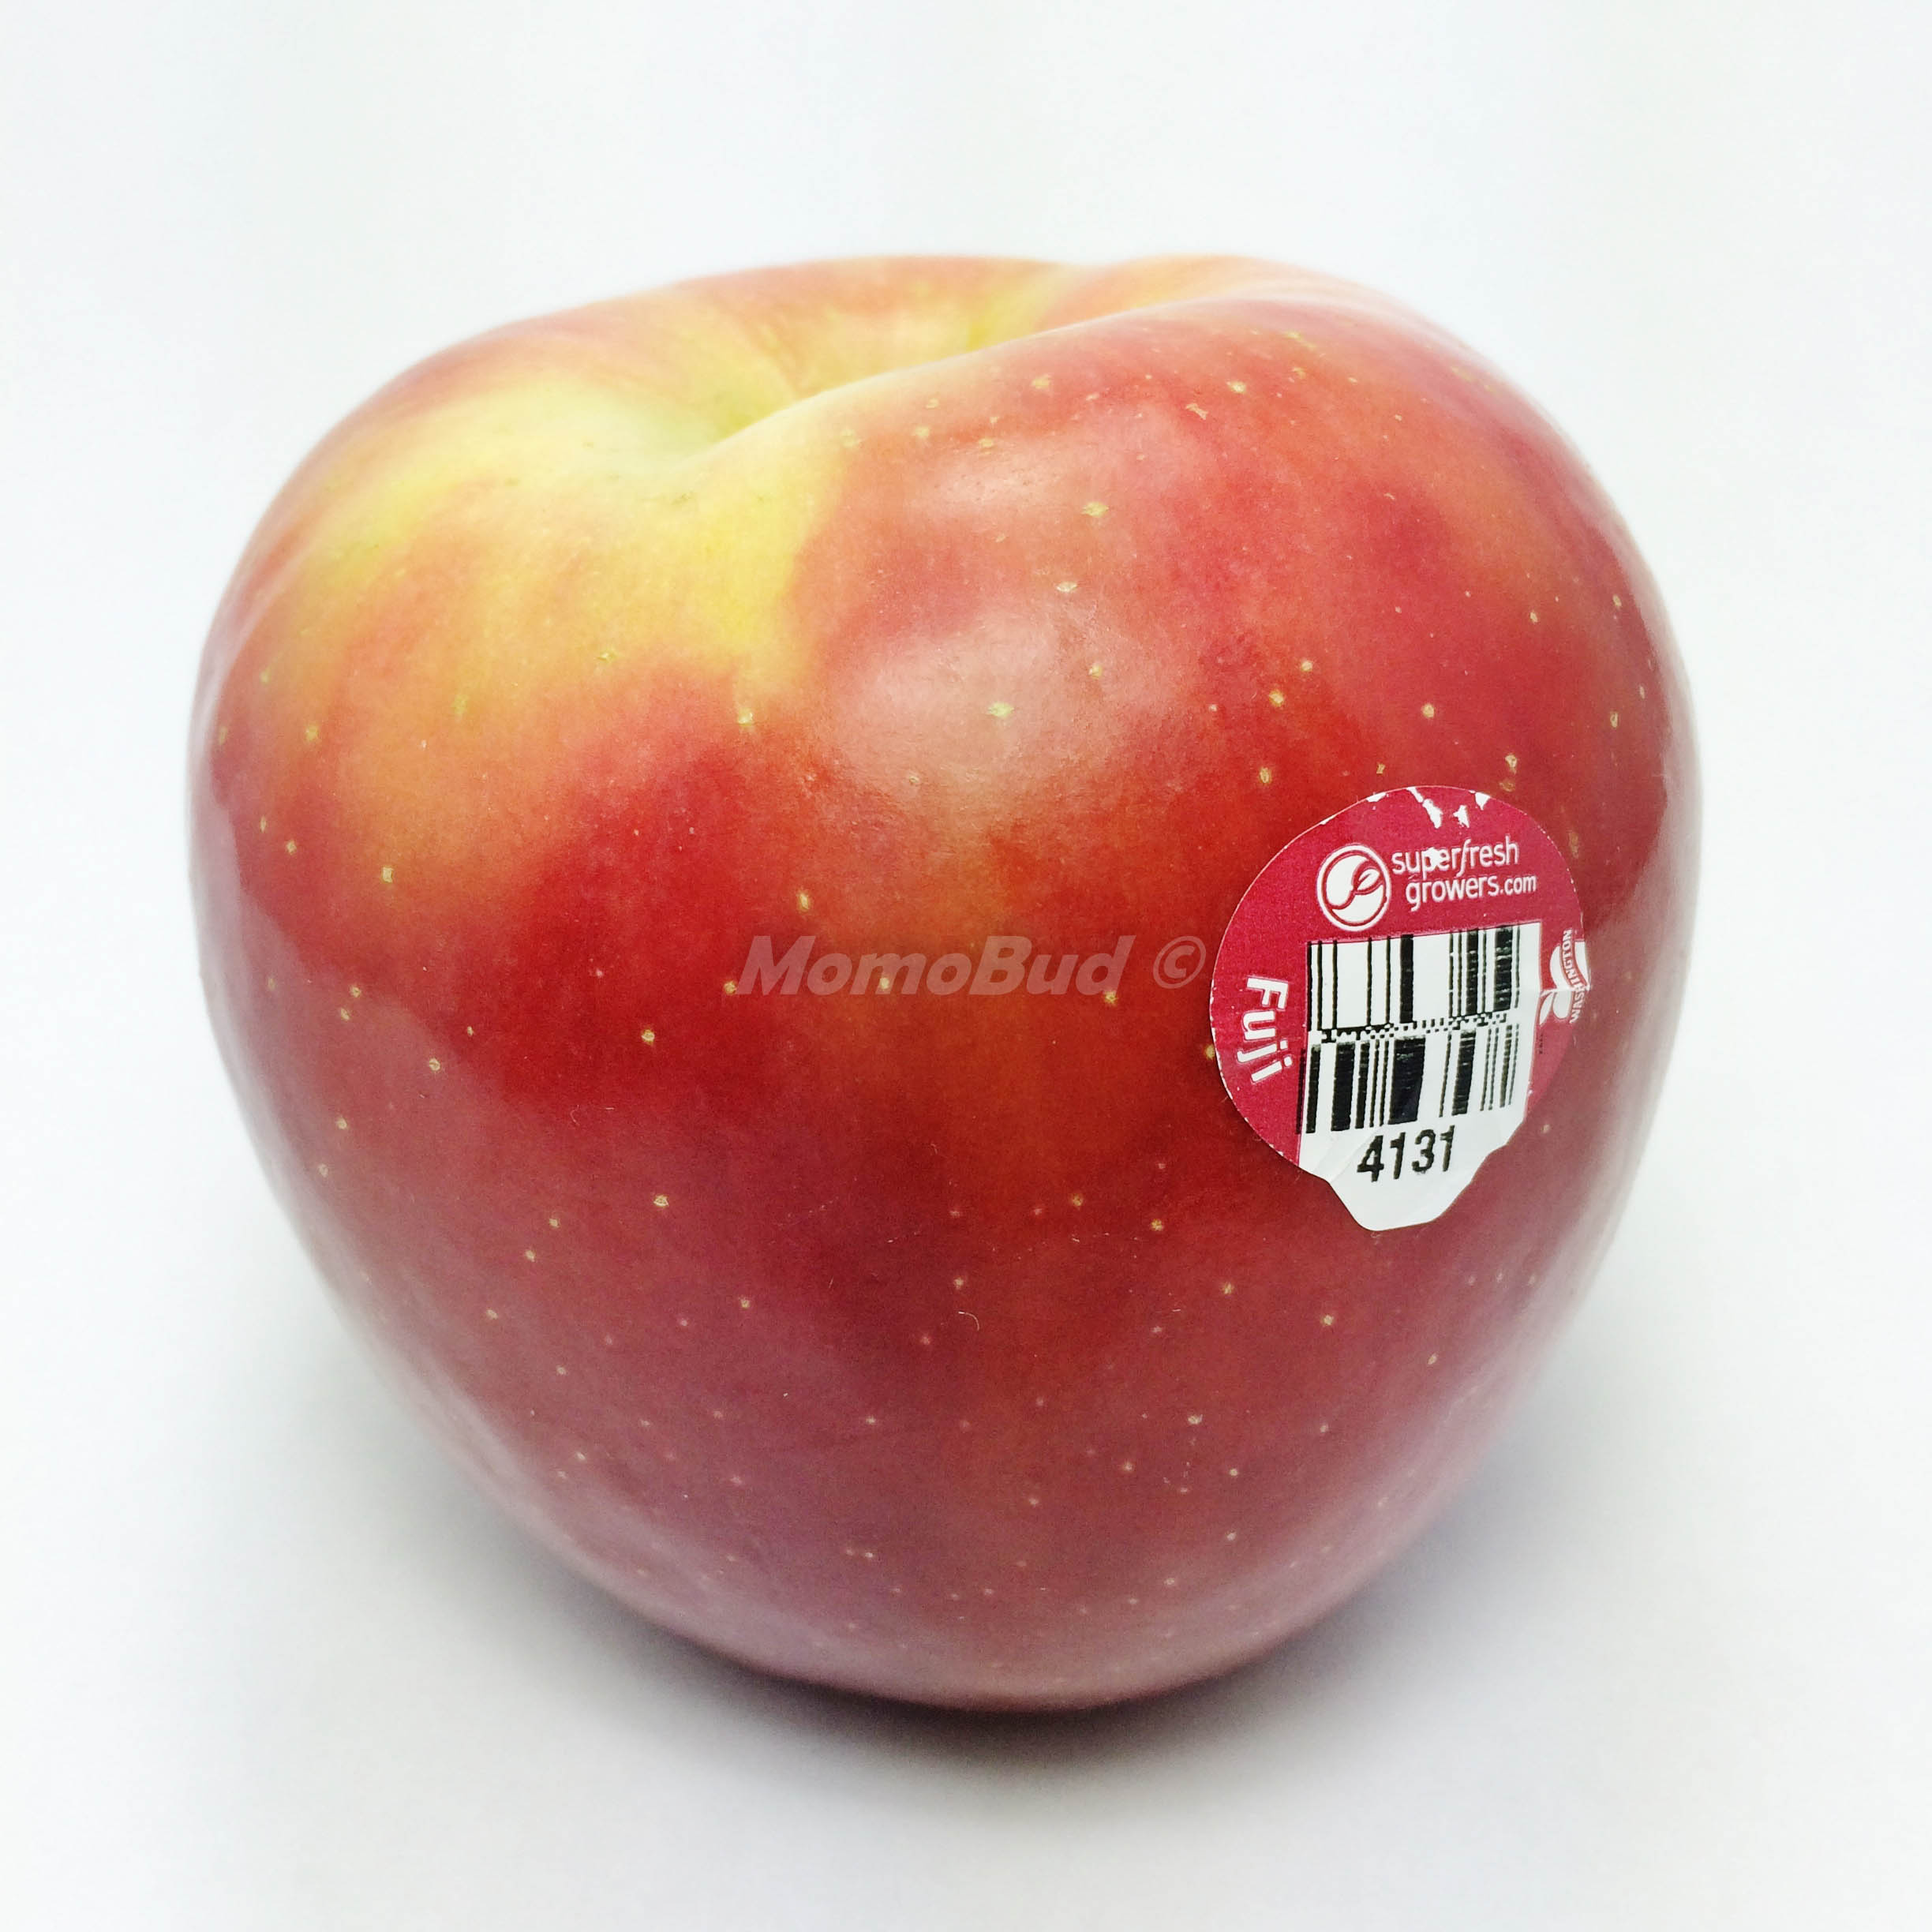apple: (180, 251, 1713, 1736)
